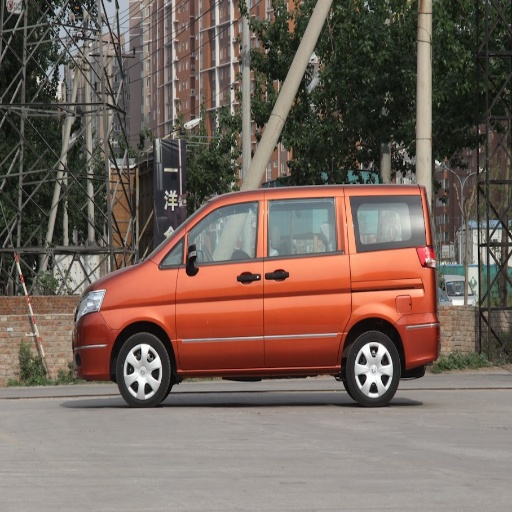back_glass: (284, 43, 396, 155)
back_left_door: (264, 195, 322, 334)
front_left_door: (176, 195, 266, 366)
trunk: (300, 250, 434, 364)
